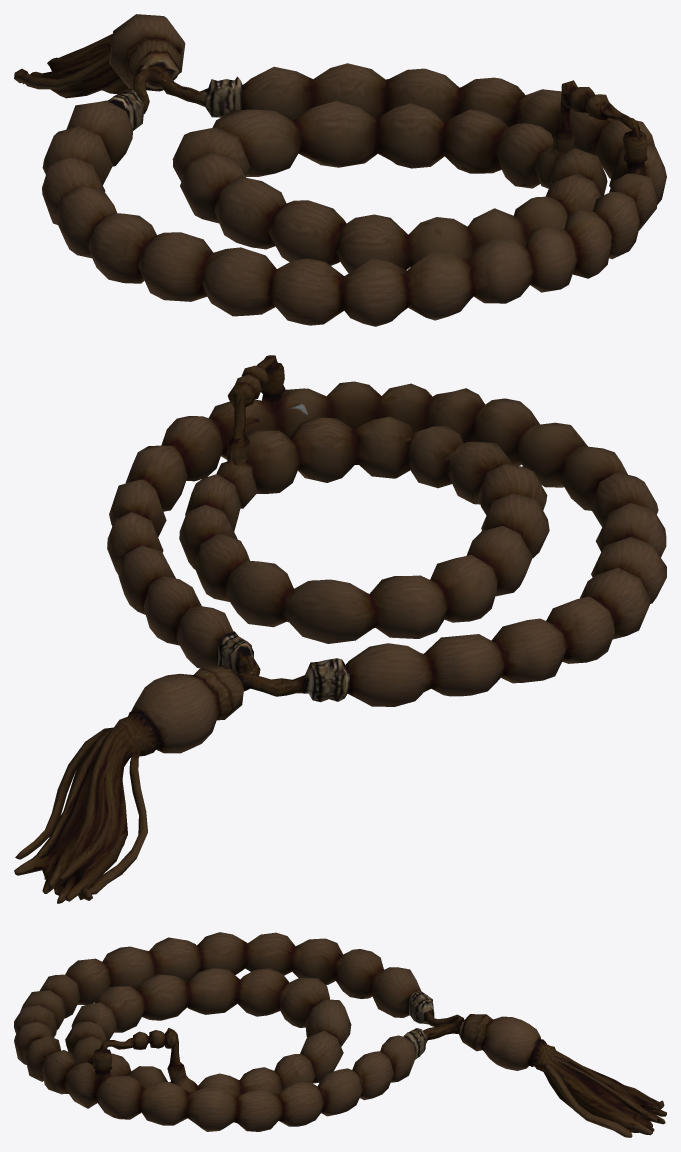
Rendered from Prayer Bead.fbx.
The picture shows the model from 3 angles, top to bottom: view 1: azimuth 30°, elevation 25°; view 2: azimuth 150°, elevation 25°; view 3: azimuth 270°, elevation 25°; orthographic projection. The views are drawn at different scales.
Parts seen in each view (by area): view 1: tripo_node_9ab1ae92-939b-4c4d-a3a6-7d948d5b9862; view 2: tripo_node_9ab1ae92-939b-4c4d-a3a6-7d948d5b9862; view 3: tripo_node_9ab1ae92-939b-4c4d-a3a6-7d948d5b9862.
Boxes of the visible parts, x1,y1,x2,y2 form: tripo_node_9ab1ae92-939b-4c4d-a3a6-7d948d5b9862: (14, 14, 666, 326); tripo_node_9ab1ae92-939b-4c4d-a3a6-7d948d5b9862: (14, 355, 666, 903); tripo_node_9ab1ae92-939b-4c4d-a3a6-7d948d5b9862: (14, 932, 666, 1137).
Bounding box in the file's own units: 63.87 × 25.78 × 99.8.
Materials: 1 (1 with a texture image).
